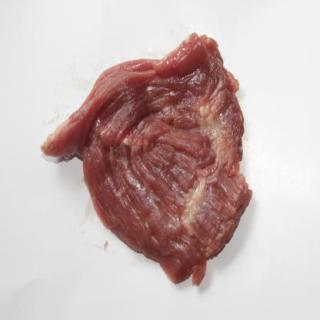Daging Sapi: (43, 36, 254, 292)
